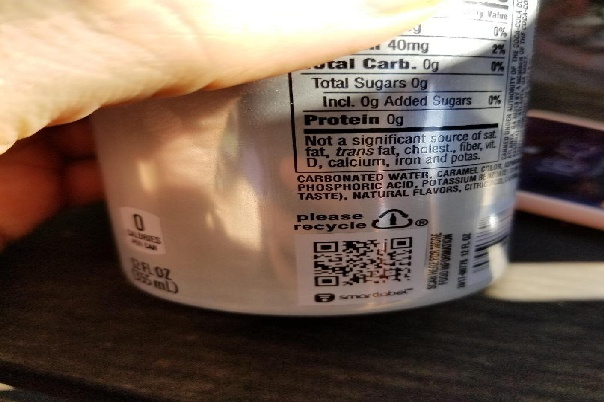code: (313, 237, 413, 287)
